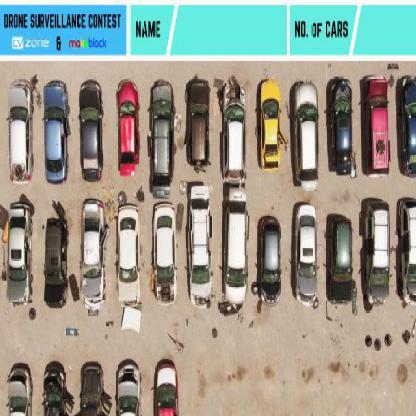car: (291, 82, 319, 189), (81, 198, 107, 311), (42, 81, 70, 185), (189, 183, 212, 307), (6, 78, 32, 185), (330, 77, 356, 181), (152, 82, 176, 188), (44, 202, 68, 308), (294, 202, 318, 308), (78, 83, 102, 183), (257, 216, 282, 308), (155, 204, 177, 304), (257, 79, 280, 171), (119, 206, 141, 282), (77, 363, 107, 415), (153, 361, 181, 415), (115, 362, 143, 415), (401, 76, 415, 180)
